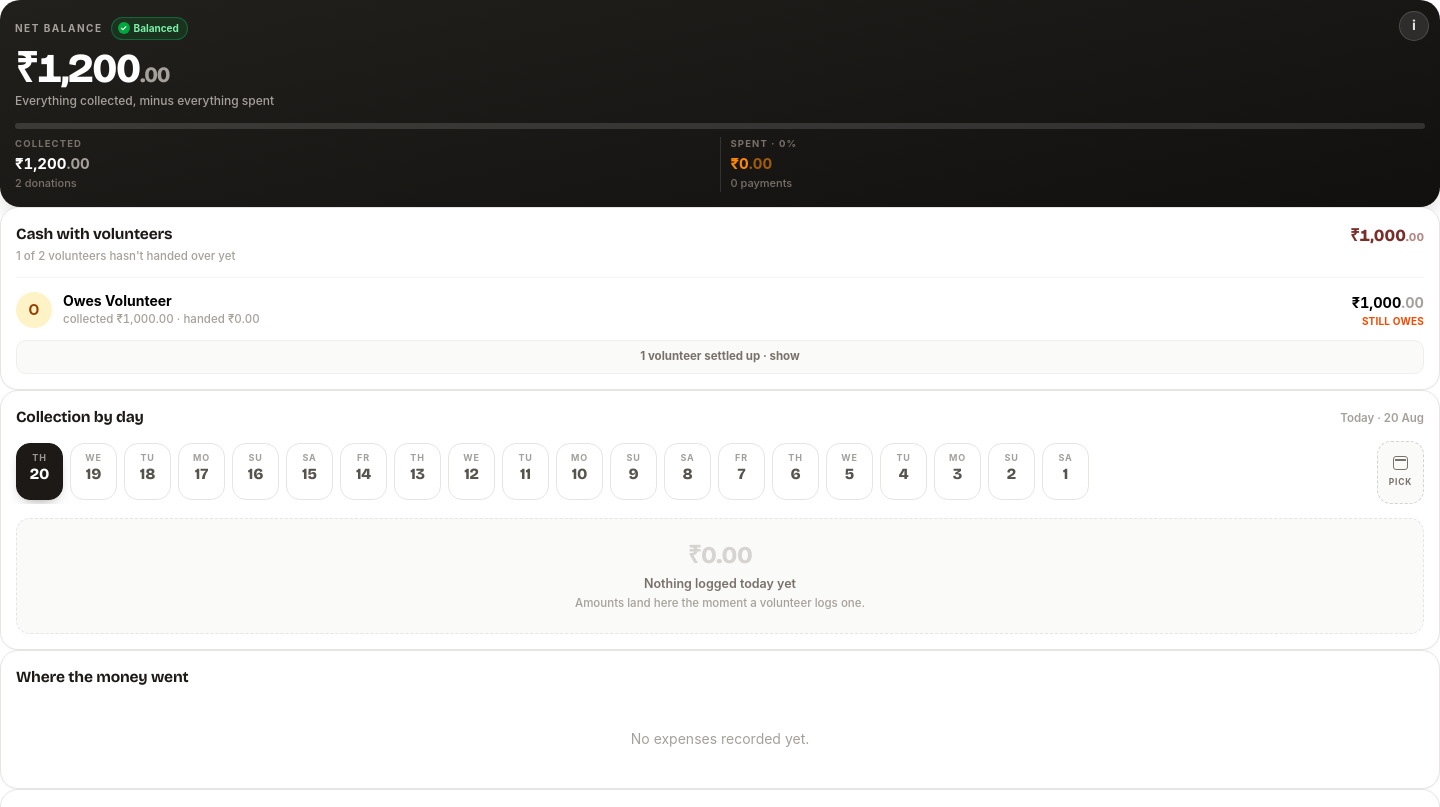
Test: MasterLedgerContent — the Overview tab › lists whoever still owes cash and collapses everyone settled behind one line
Expected: the heading "Cash with volunteers" is shown, [16,224,172,242]
Expected: the text "Owes Volunteer" is shown, [63,292,172,309]
Click the button "1 volunteer settled up · show". click: (720, 357)
box: [16,340,1424,374]
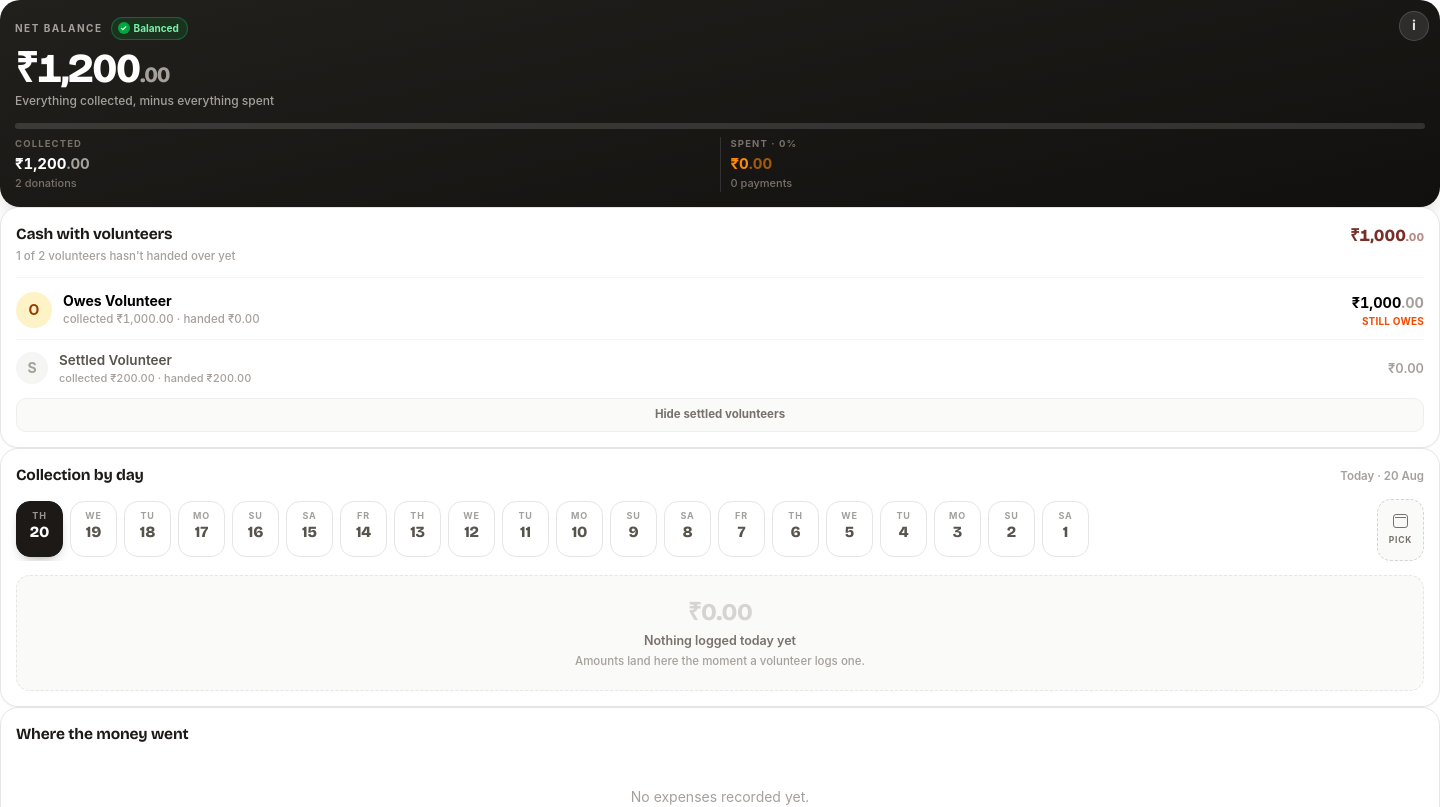
Result: the text "Settled Volunteer" is shown at [59,352,172,368]
Result: the button "Hide settled volunteers" is shown at [16,398,1424,432]
